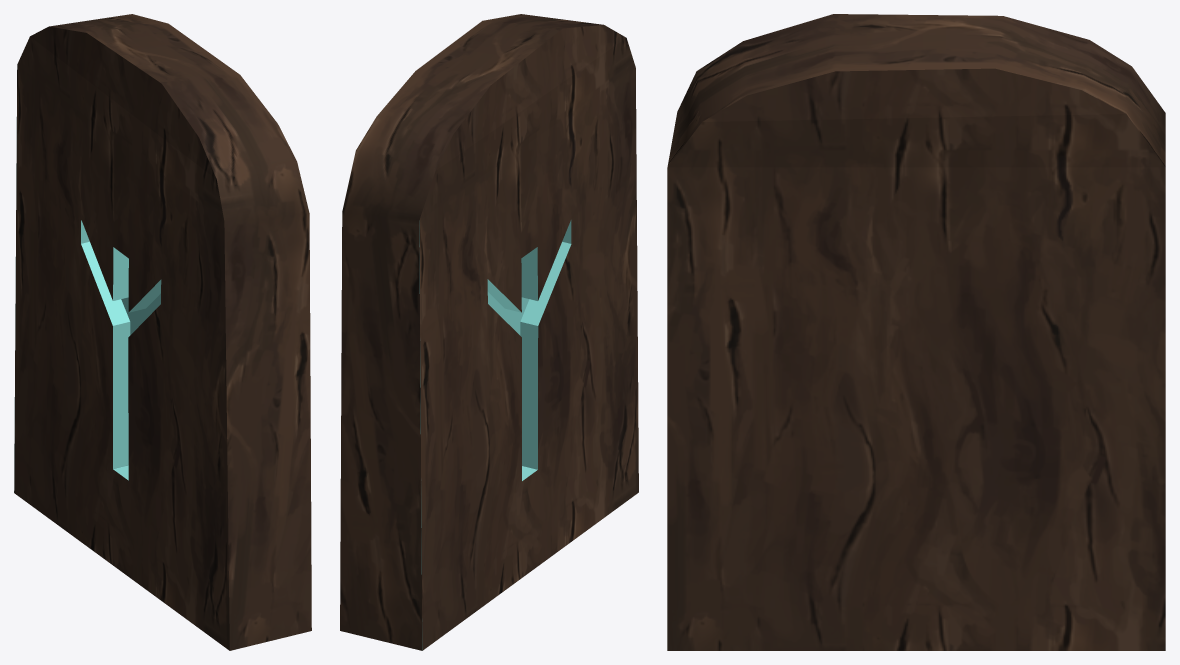
File: Door 8.fbx
The picture shows the model from 3 angles, left to right: view 1: azimuth 30°, elevation 25°; view 2: azimuth 150°, elevation 25°; view 3: azimuth 270°, elevation 25°; orthographic projection. The views are drawn at different scales.
Parts seen in each view (by area): view 1: Door_8; view 2: Door_8; view 3: Door_8.
Boxes of the visible parts, x1,y1,x2,y2 form: Door_8: (14,14,311,650); Door_8: (340,14,638,650); Door_8: (667,14,1165,650).
Bounding box in the file's own units: 0.7182 × 4.18 × 3.18.
